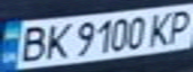0: (127, 12, 151, 50), (109, 16, 130, 52)
1: (93, 16, 115, 54)
9: (72, 18, 96, 57)
B: (12, 22, 51, 63)
K: (39, 20, 72, 61), (145, 9, 178, 47)
P: (163, 6, 193, 44)
